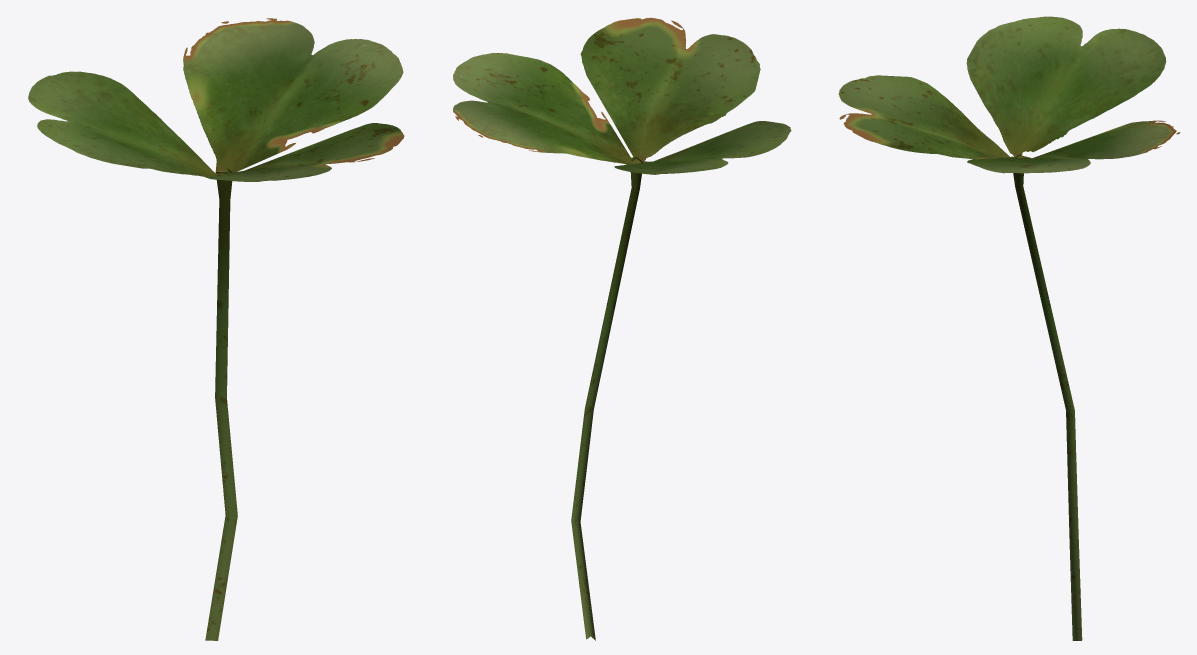
Rendered from Sorrel_I.fbx.
3 renders of one model, left to right at view 1: azimuth 30°, elevation 25°; view 2: azimuth 150°, elevation 25°; view 3: azimuth 270°, elevation 25°, orthographic. The views are drawn at different scales.
Visible parts, largest first — view 1: Sorrel_I; view 2: Sorrel_I; view 3: Sorrel_I.
Part boxes in pixels (bbox=[...]): Sorrel_I: bbox=[28, 18, 404, 640]; Sorrel_I: bbox=[453, 17, 791, 640]; Sorrel_I: bbox=[838, 16, 1180, 640].
Bounding box in the file's own units: 0.0775 × 0.12 × 0.0706.
1 material, 1 textured.
